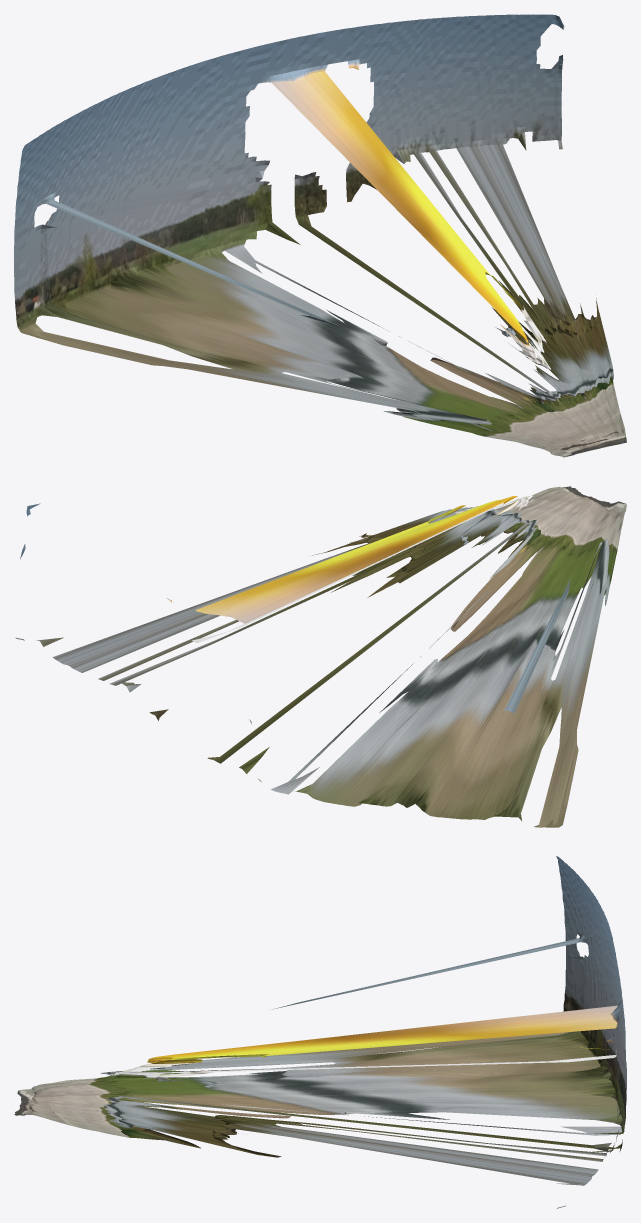
3 views of the same model, one above another, from view 1: azimuth 30°, elevation 25°; view 2: azimuth 150°, elevation 25°; view 3: azimuth 270°, elevation 25° (orthographic). The views are drawn at different scales.
Visible parts, largest first — view 1: defaultobject; view 2: defaultobject; view 3: defaultobject.
Part boxes in pixels (x1=…): defaultobject: x1=14, y1=14, x2=626, y2=457; defaultobject: x1=15, y1=486, x2=626, y2=827; defaultobject: x1=14, y1=856, x2=626, y2=1208.
Size of the model in its own units: 41.16 by 14.61 by 44.86.
1 material, 1 textured.
